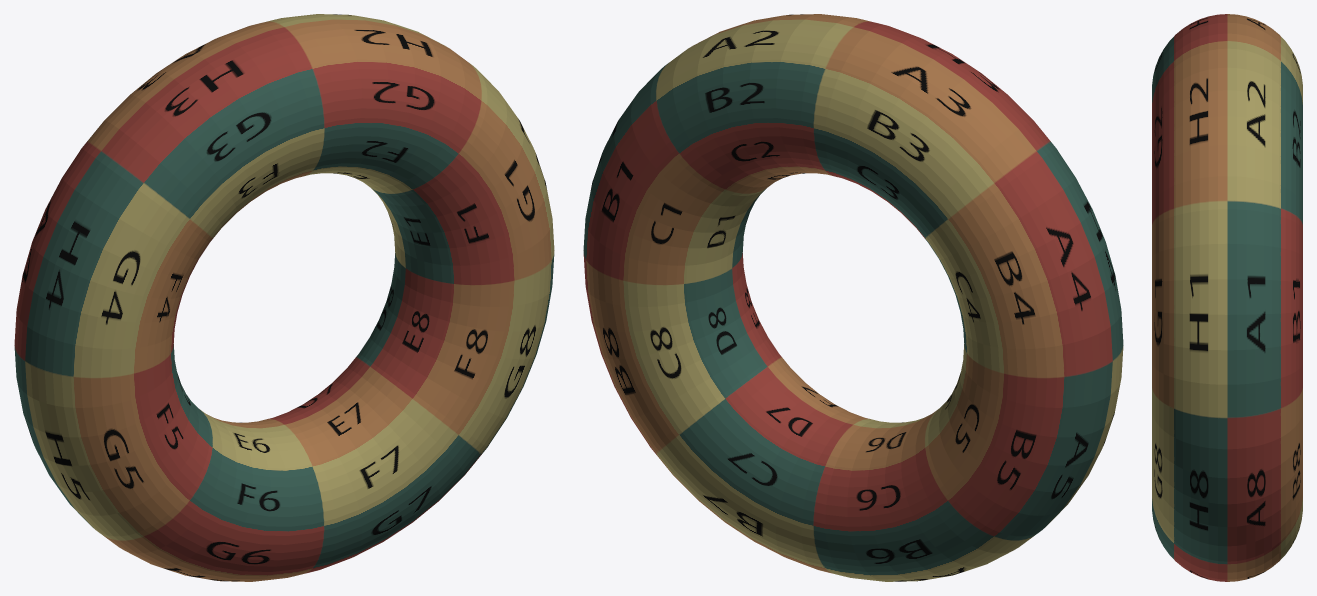
Rendered from texture_torus_R1_r7.glb.
The picture shows the model from 3 angles, left to right: view 1: azimuth 30°, elevation 25°; view 2: azimuth 150°, elevation 25°; view 3: azimuth 270°, elevation 25°; orthographic projection. The views are drawn at different scales.
Visible parts, largest first — view 1: world; view 2: world; view 3: world.
Boxes of the visible parts, left/top/right/bottom form: world: left=14, top=14, right=554, bottom=581; world: left=583, top=14, right=1123, bottom=581; world: left=1152, top=14, right=1302, bottom=581.
Size of the model in its own units: 14.53 by 14.5 by 3.86.
Materials: 1 (1 with a texture image).
